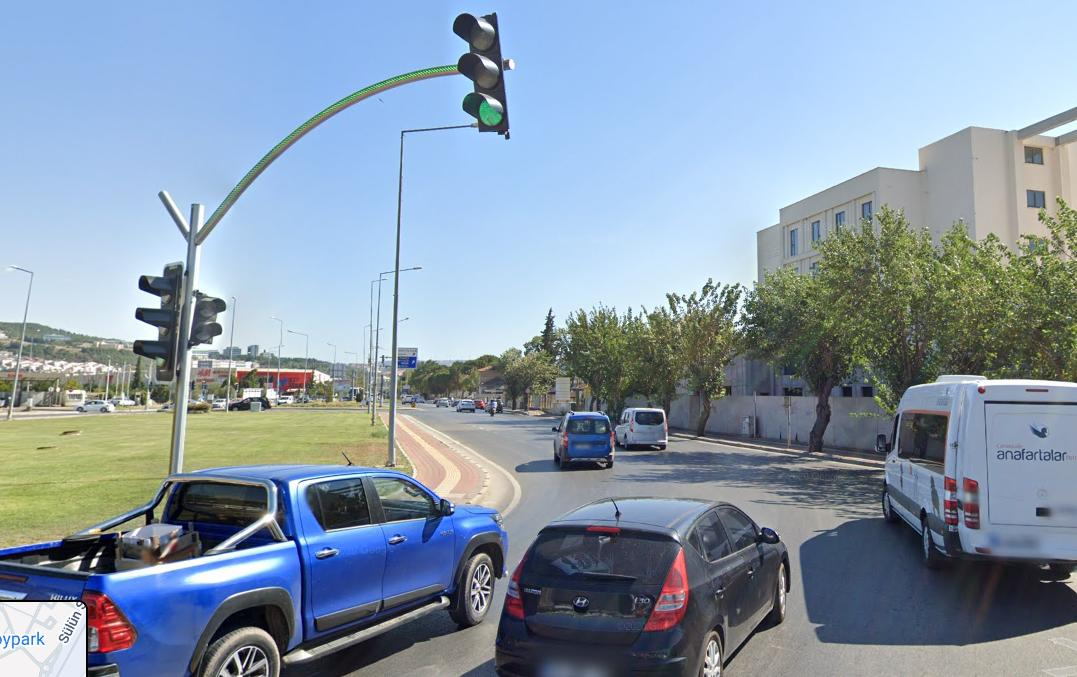greenlight: (455, 7, 512, 140), (141, 256, 178, 375)
